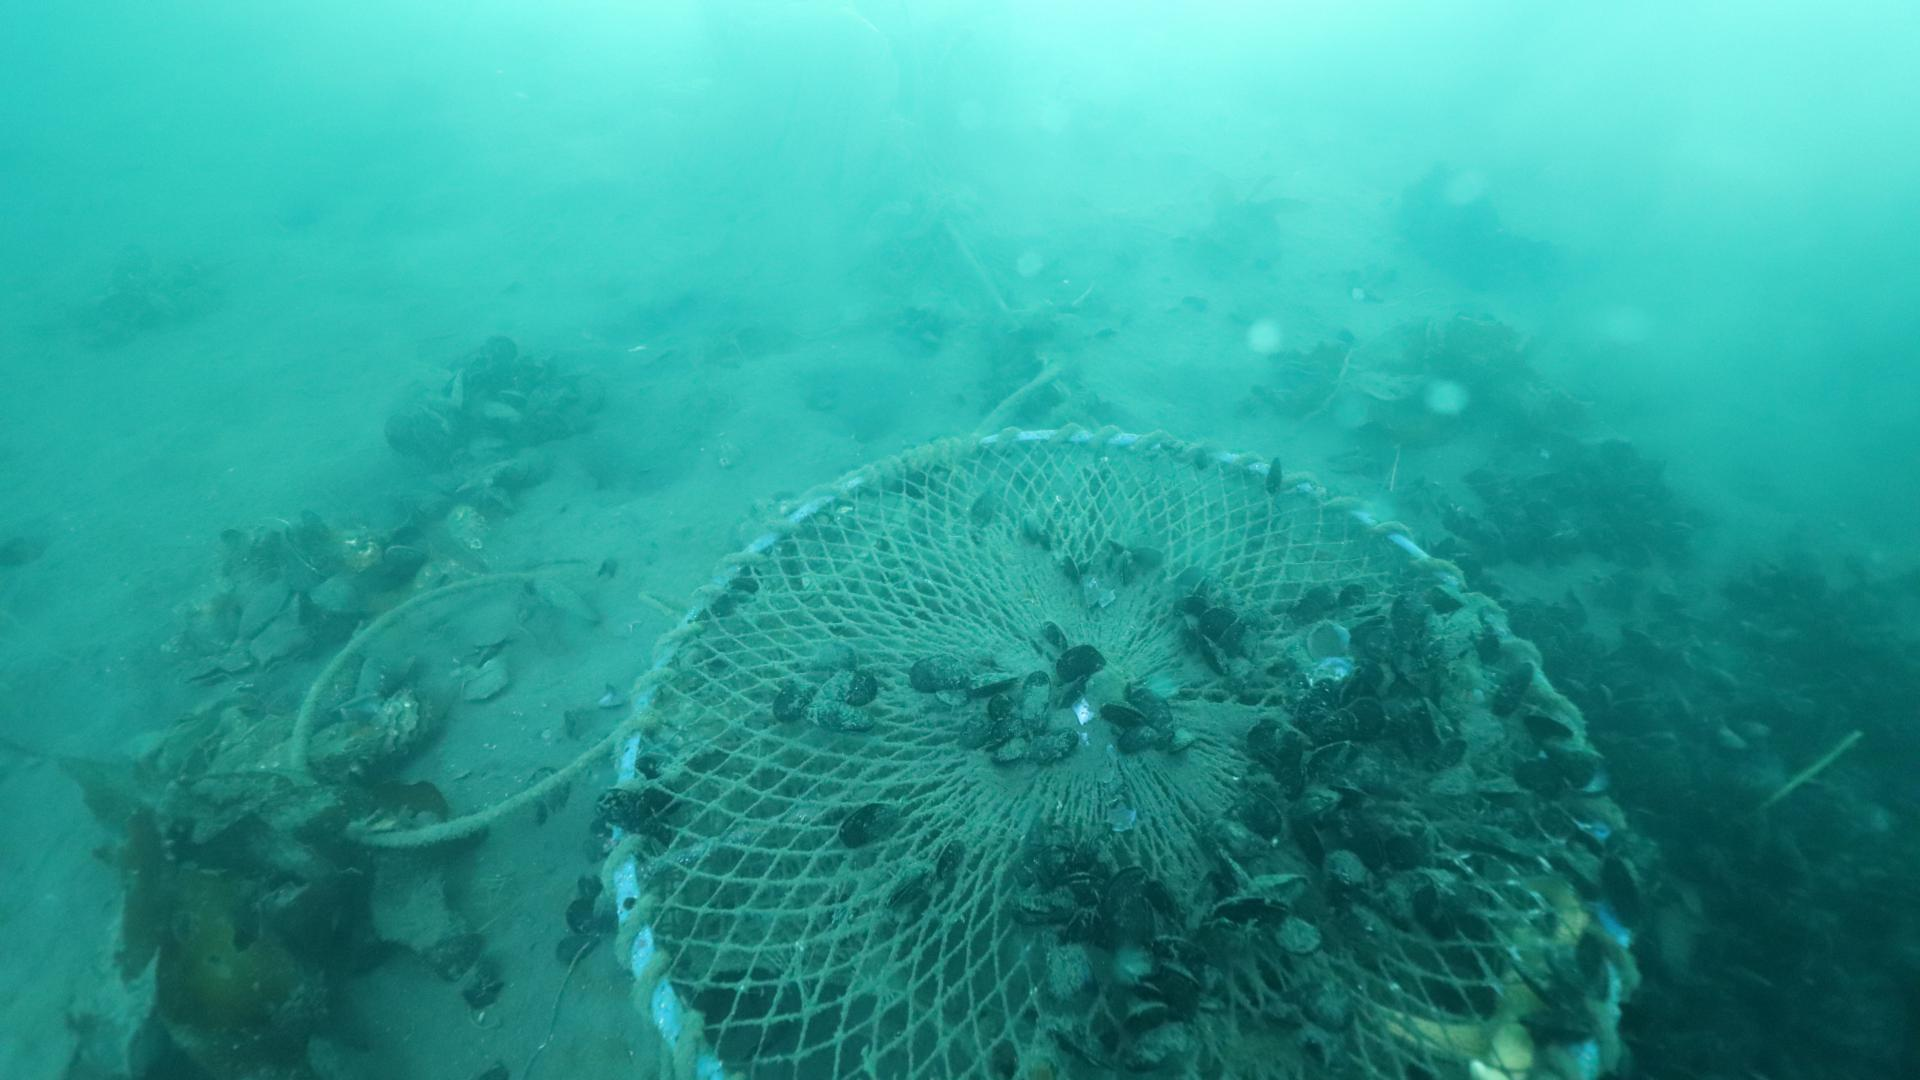bundle of ropes: (284, 568, 650, 853)
circular fish trap: (597, 419, 1640, 1080)
